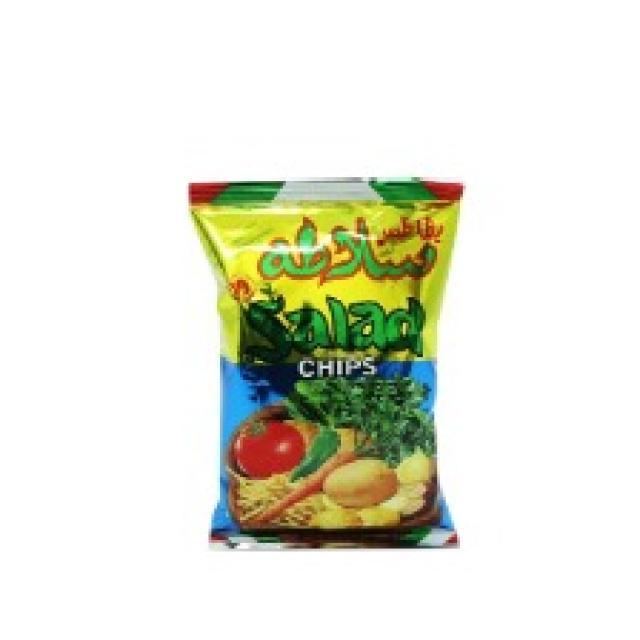plastic: (167, 168, 469, 557)
